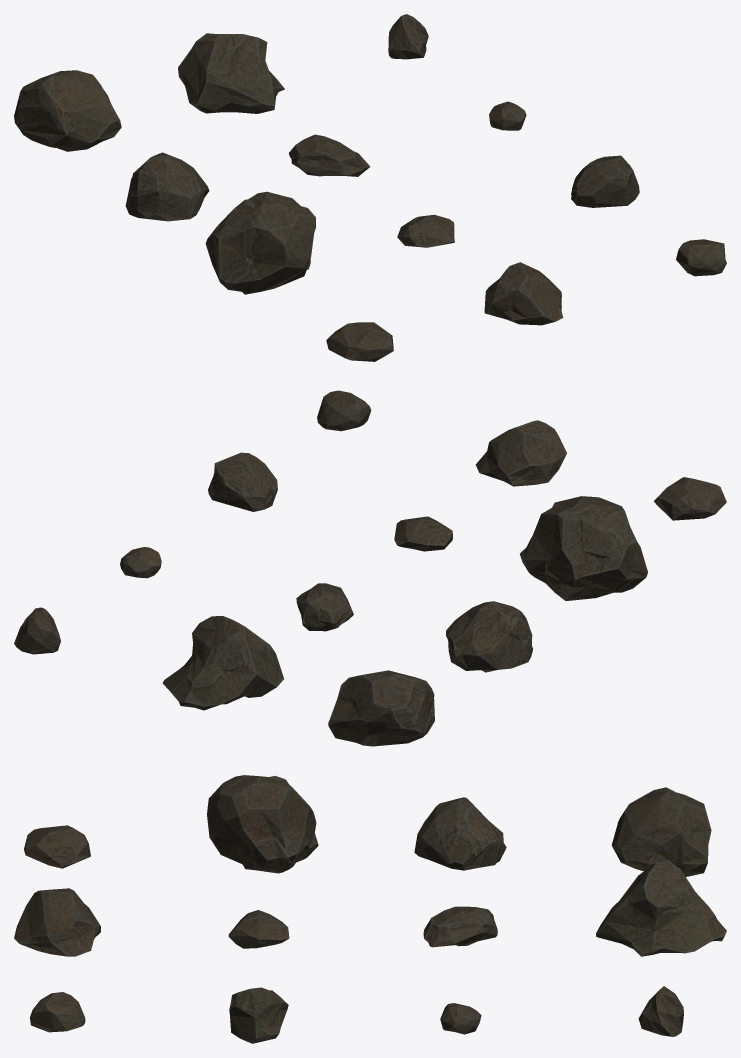
3 views of the same model, one above another, from view 1: azimuth 30°, elevation 25°; view 2: azimuth 150°, elevation 25°; view 3: azimuth 270°, elevation 25° (orthographic). The views are drawn at different scales.
Visible parts, largest first — view 1: Stone_02_Material #2_0, Stone_08_Material #2_0, Stone_04_Material #2_0, Stone_03_Material #2_0, Stone_05_Material #2_0, Stone_10_Material #2_0, Stone_07_Material #2_0, Stone_01_Material #2_0, Stone_09_Material #2_0, Stone_06_Material #2_0, Stone_12_Material #2_0, Stone_11_Material #2_0; view 2: Stone_02_Material #2_0, Stone_08_Material #2_0, Stone_04_Material #2_0, Stone_03_Material #2_0, Stone_05_Material #2_0, Stone_10_Material #2_0, Stone_01_Material #2_0, Stone_07_Material #2_0, Stone_09_Material #2_0, Stone_06_Material #2_0, Stone_12_Material #2_0, Stone_11_Material #2_0; view 3: Stone_02_Material #2_0, Stone_08_Material #2_0, Stone_04_Material #2_0, Stone_03_Material #2_0, Stone_05_Material #2_0, Stone_10_Material #2_0, Stone_07_Material #2_0, Stone_01_Material #2_0, Stone_09_Material #2_0, Stone_06_Material #2_0, Stone_12_Material #2_0, Stone_11_Material #2_0.
Boxes of the visible parts, x1,y1,x2,y2 form: Stone_02_Material #2_0: (205,191,315,294); Stone_08_Material #2_0: (178,33,284,113); Stone_04_Material #2_0: (14,70,121,151); Stone_03_Material #2_0: (125,152,209,221); Stone_05_Material #2_0: (484,262,563,325); Stone_10_Material #2_0: (571,155,639,207); Stone_07_Material #2_0: (289,134,370,176); Stone_01_Material #2_0: (326,322,393,361); Stone_09_Material #2_0: (676,239,726,276); Stone_06_Material #2_0: (397,214,454,247); Stone_12_Material #2_0: (388,14,428,59); Stone_11_Material #2_0: (489,101,526,130); Stone_02_Material #2_0: (520,496,647,600); Stone_08_Material #2_0: (162,616,283,710); Stone_04_Material #2_0: (328,670,434,746); Stone_03_Material #2_0: (446,601,532,672); Stone_05_Material #2_0: (475,420,566,486); Stone_10_Material #2_0: (208,452,277,511); Stone_01_Material #2_0: (654,477,726,520); Stone_07_Material #2_0: (296,583,353,631); Stone_09_Material #2_0: (317,390,371,431); Stone_06_Material #2_0: (394,516,452,551); Stone_12_Material #2_0: (14,607,60,654); Stone_11_Material #2_0: (120,547,161,578); Stone_02_Material #2_0: (207,775,318,873); Stone_08_Material #2_0: (596,861,726,956); Stone_04_Material #2_0: (612,787,711,876); Stone_03_Material #2_0: (414,797,506,870); Stone_05_Material #2_0: (14,888,100,956); Stone_10_Material #2_0: (229,987,288,1043); Stone_07_Material #2_0: (423,906,497,947); Stone_01_Material #2_0: (24,825,90,868); Stone_09_Material #2_0: (30,992,85,1032); Stone_06_Material #2_0: (228,910,289,948); Stone_12_Material #2_0: (638,986,683,1036); Stone_11_Material #2_0: (440,1003,481,1034).
Bounding box in the file's own units: 0.0141 × 0.00246 × 0.02.
1 material, 1 textured.
